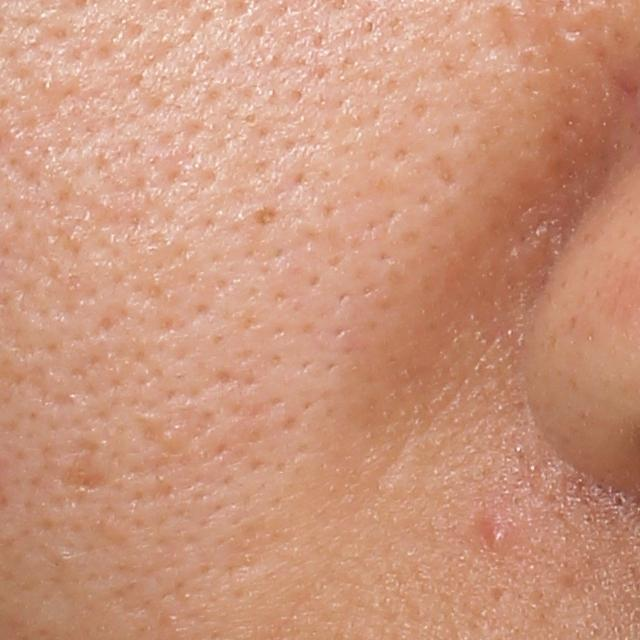papule: (477, 522, 516, 552)
